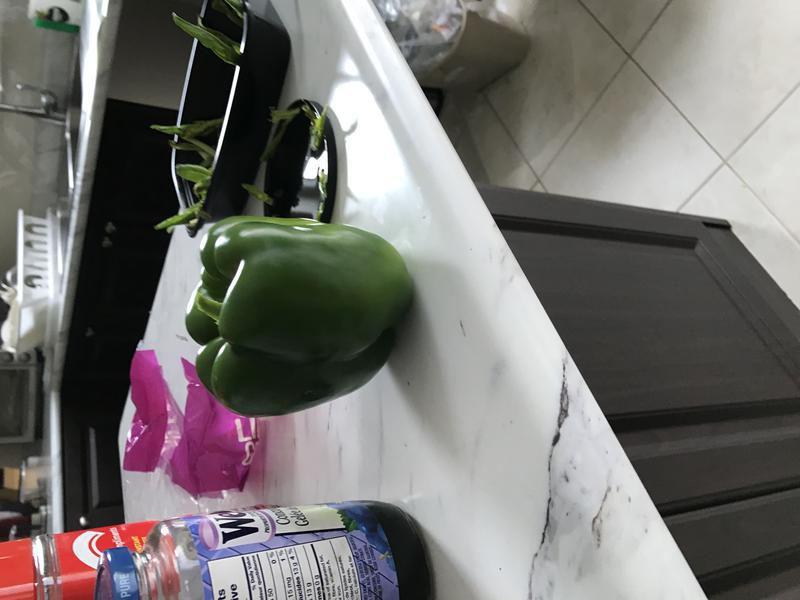green_pepper: (172, 206, 425, 424)
